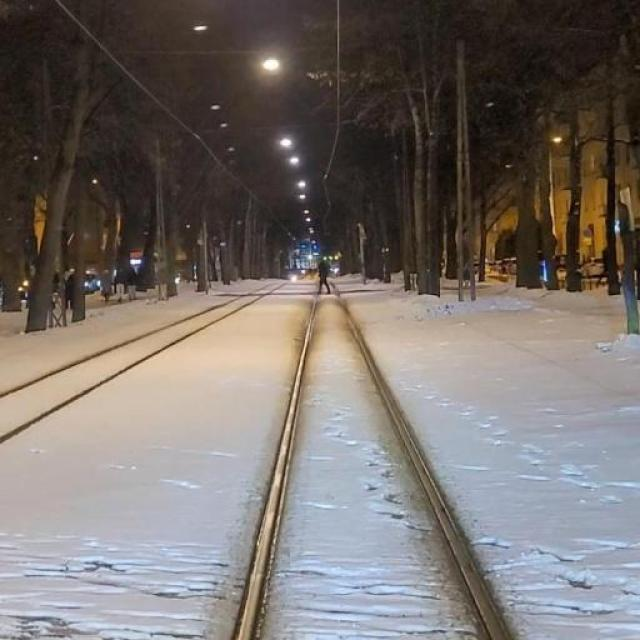people: (313, 256, 337, 296)
